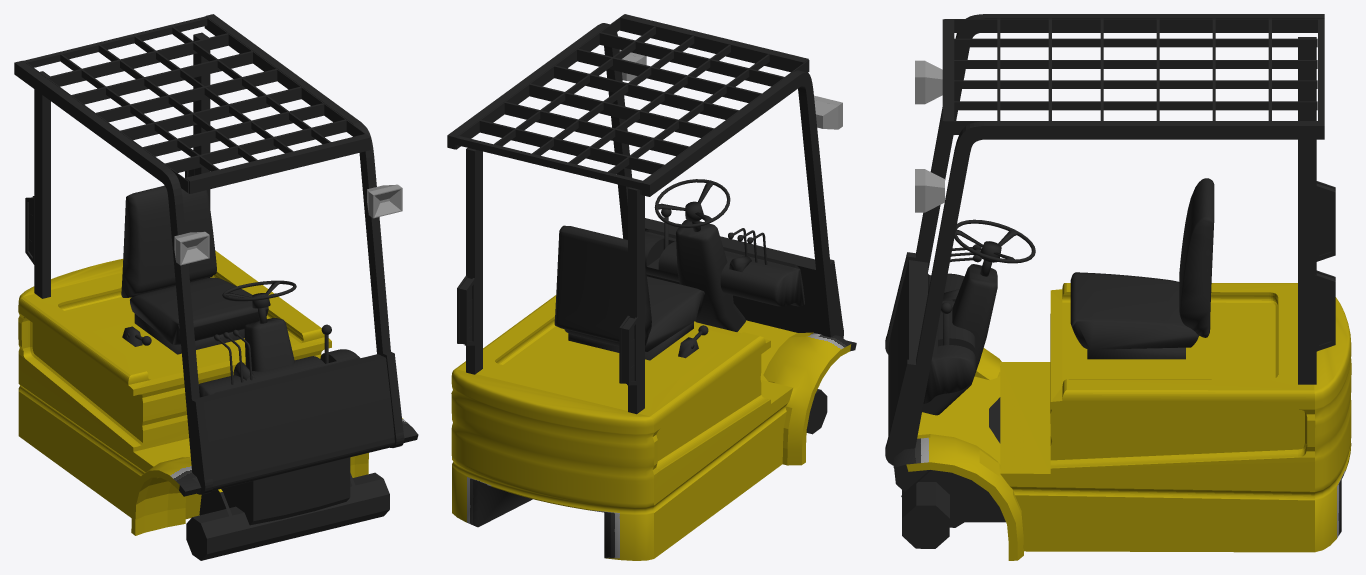
File: body.glb
3 renders of one model, left to right at view 1: azimuth 30°, elevation 25°; view 2: azimuth 150°, elevation 25°; view 3: azimuth 270°, elevation 25°, orthographic. The views are drawn at different scales.
Visible parts, largest first — view 1: Node1; view 2: Node1; view 3: Node1.
Part boxes in pixels (x1,y1,x2,y2): Node1: [14, 14, 418, 560]; Node1: [447, 14, 856, 560]; Node1: [885, 14, 1351, 560].
Bounding box in the file's own units: 1.37 × 2.11 × 2.06.
1 material, 1 textured.
